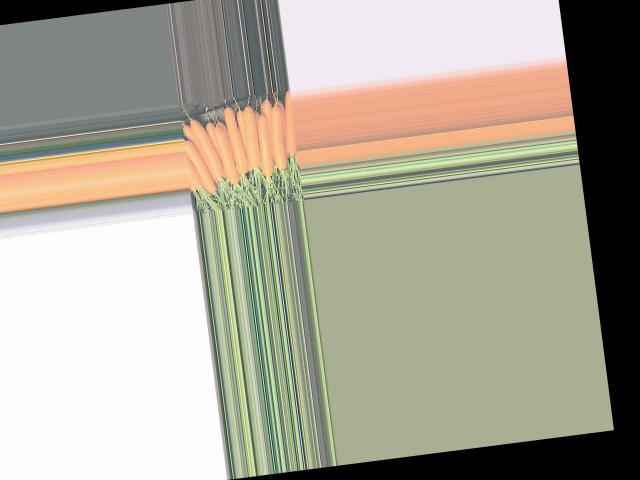carrot: (191, 132, 211, 194)
